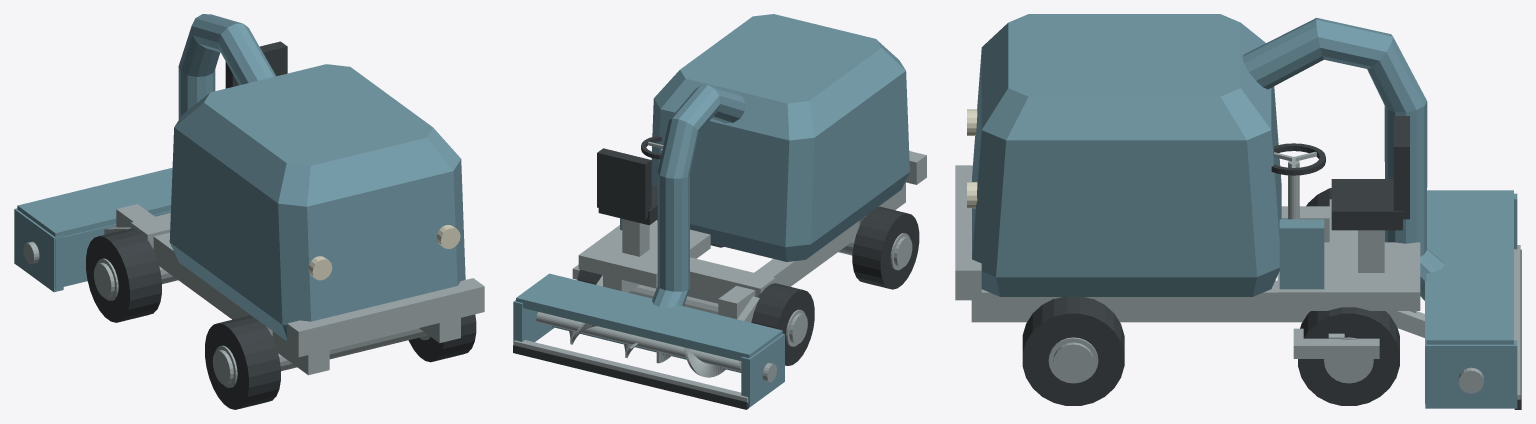
3 renders of one model, left to right at view 1: azimuth 30°, elevation 25°; view 2: azimuth 150°, elevation 25°; view 3: azimuth 270°, elevation 25°, orthographic. The views are drawn at different scales.
Parts seen in each view (by area): view 1: WholeHighForwardCollectionBody, WholeFrontBluntBumper, WholeConditionerRoof, WholeCentralRisingTransferExterior, WholeGroundFootTyre_1_0, WholeGroundFootTyre_0_0, WholeLongChassisRail_0, WholeConditionerEndCheek_0, WholeConditionerRearWall, WholeRoadWheelAxle_0, WholeGroundFootTyre_0_1, WholeSeatBack (+5 smaller); view 2: WholeHighForwardCollectionBody, WholeConditionerRoof, WholeCentralRisingTransferExterior, WholeGroundFootTyre_0_0, WholeRightRearOperatorDeck, WholeSeatBack, WholeLongChassisRail_0, WholeGroundFootTyre_1_0, WholeChassisCrossmember_1, WholeConditionerTransverseShaft, WholeTrailingBluntStrip, WholeTrailingStripBacking (+9 smaller); view 3: WholeHighForwardCollectionBody, WholeConditionerRoof, WholeCentralRisingTransferExterior, WholeGroundFootTyre_0_1, WholeRightRearOperatorDeck, WholeLongChassisRail_1, WholeGroundFootTyre_1_1, WholeConditionerEndCheek_1, WholeSeatPan, WholeBlankControlHousing, WholeFrontBluntBumper, WholeLowSideStep (+11 smaller).
Part boxes in pixels (bbox=[...]): WholeHighForwardCollectionBody: bbox=[169, 64, 465, 341]; WholeFrontBluntBumper: bbox=[287, 278, 484, 357]; WholeConditionerRoof: bbox=[17, 167, 172, 236]; WholeCentralRisingTransferExterior: bbox=[178, 14, 275, 119]; WholeGroundFootTyre_1_0: bbox=[86, 228, 161, 322]; WholeGroundFootTyre_0_0: bbox=[205, 315, 280, 409]; WholeLongChassisRail_0: bbox=[116, 204, 329, 375]; WholeConditionerEndCheek_0: bbox=[14, 208, 63, 292]; WholeConditionerRearWall: bbox=[55, 210, 170, 288]; WholeRoadWheelAxle_0: bbox=[212, 328, 426, 384]; WholeGroundFootTyre_0_1: bbox=[408, 314, 476, 362]; WholeSeatBack: bbox=[225, 41, 287, 88]; WholeHighForwardCollectionBody: bbox=[651, 14, 909, 261]; WholeConditionerRoof: bbox=[516, 273, 782, 360]; WholeCentralRisingTransferExterior: bbox=[652, 85, 745, 307]; WholeGroundFootTyre_0_0: bbox=[852, 206, 919, 289]; WholeRightRearOperatorDeck: bbox=[578, 221, 710, 287]; WholeSeatBack: bbox=[597, 148, 651, 219]; WholeLongChassisRail_0: bbox=[718, 182, 905, 319]; WholeGroundFootTyre_1_0: bbox=[751, 283, 814, 365]; WholeChassisCrossmember_1: bbox=[640, 257, 775, 303]; WholeConditionerTransverseShaft: bbox=[536, 312, 740, 371]; WholeTrailingBluntStrip: bbox=[513, 345, 749, 409]; WholeTrailingStripBacking: bbox=[513, 340, 748, 402]; WholeHighForwardCollectionBody: bbox=[972, 14, 1281, 296]; WholeConditionerRoof: bbox=[1426, 190, 1513, 344]; WholeCentralRisingTransferExterior: bbox=[1242, 17, 1444, 300]; WholeGroundFootTyre_0_1: bbox=[1022, 297, 1124, 405]; WholeRightRearOperatorDeck: bbox=[1277, 242, 1420, 310]; WholeLongChassisRail_1: bbox=[971, 280, 1416, 322]; WholeGroundFootTyre_1_1: bbox=[1298, 307, 1399, 405]; WholeConditionerEndCheek_1: bbox=[1425, 340, 1517, 408]; WholeSeatPan: bbox=[1331, 179, 1402, 230]; WholeBlankControlHousing: bbox=[1279, 219, 1324, 289]; WholeFrontBluntBumper: bbox=[955, 165, 981, 300]; WholeLowSideStep: bbox=[1293, 328, 1379, 358].
Bounding box in the file's own units: 1.84 × 1.74 × 2.78.
